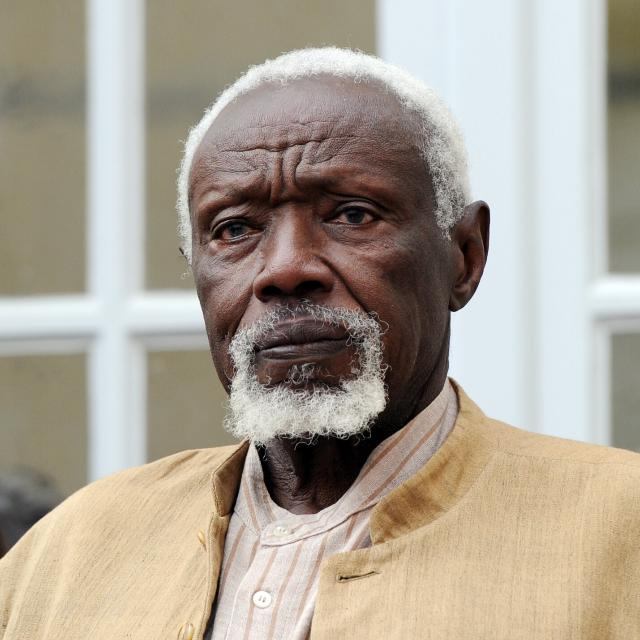forehead: (224, 132, 344, 158)
frown_line: (266, 156, 302, 204)
gummy_smile: (324, 256, 366, 308), (226, 283, 262, 339)
